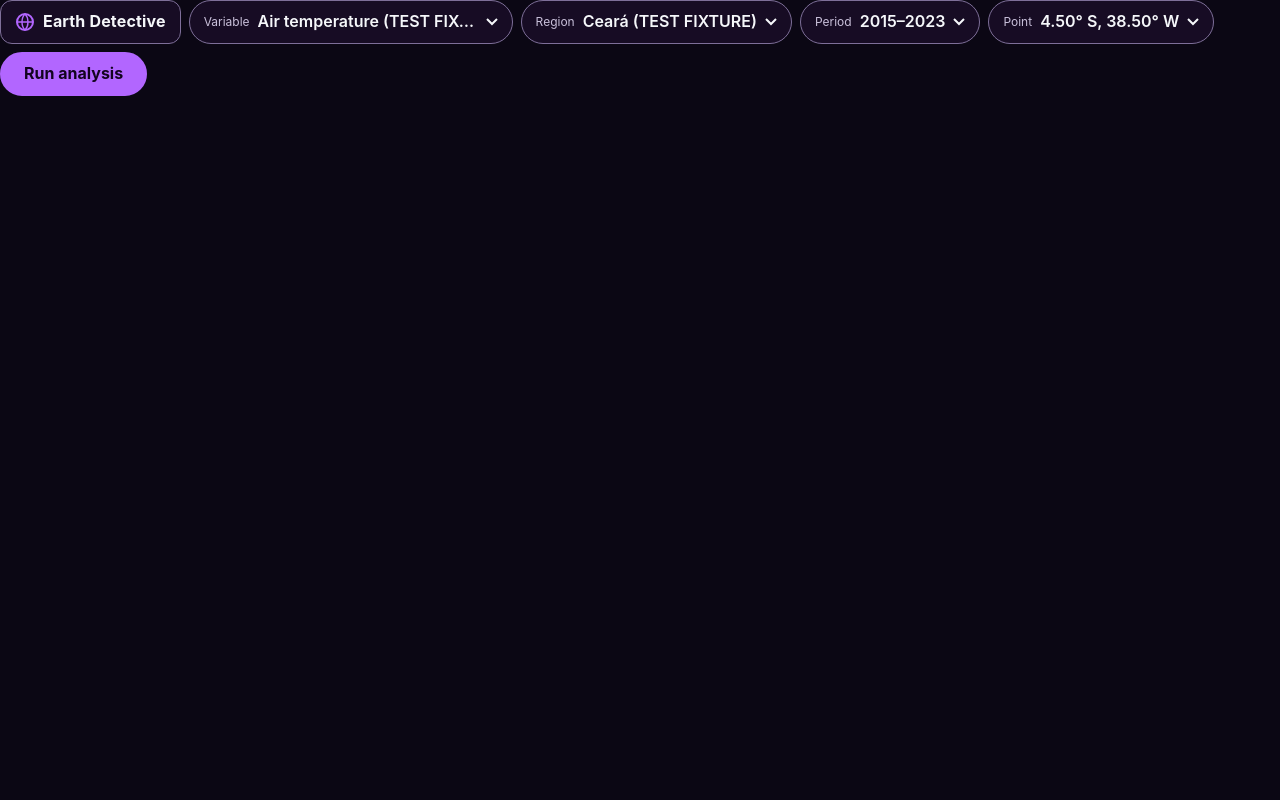
Test: coordinate fields (keyboard) › offers to go back to the region center once a point was chosen
Step 1. Click the button with aria-label "Point:" → (1101, 22), box [988,0,1214,44]
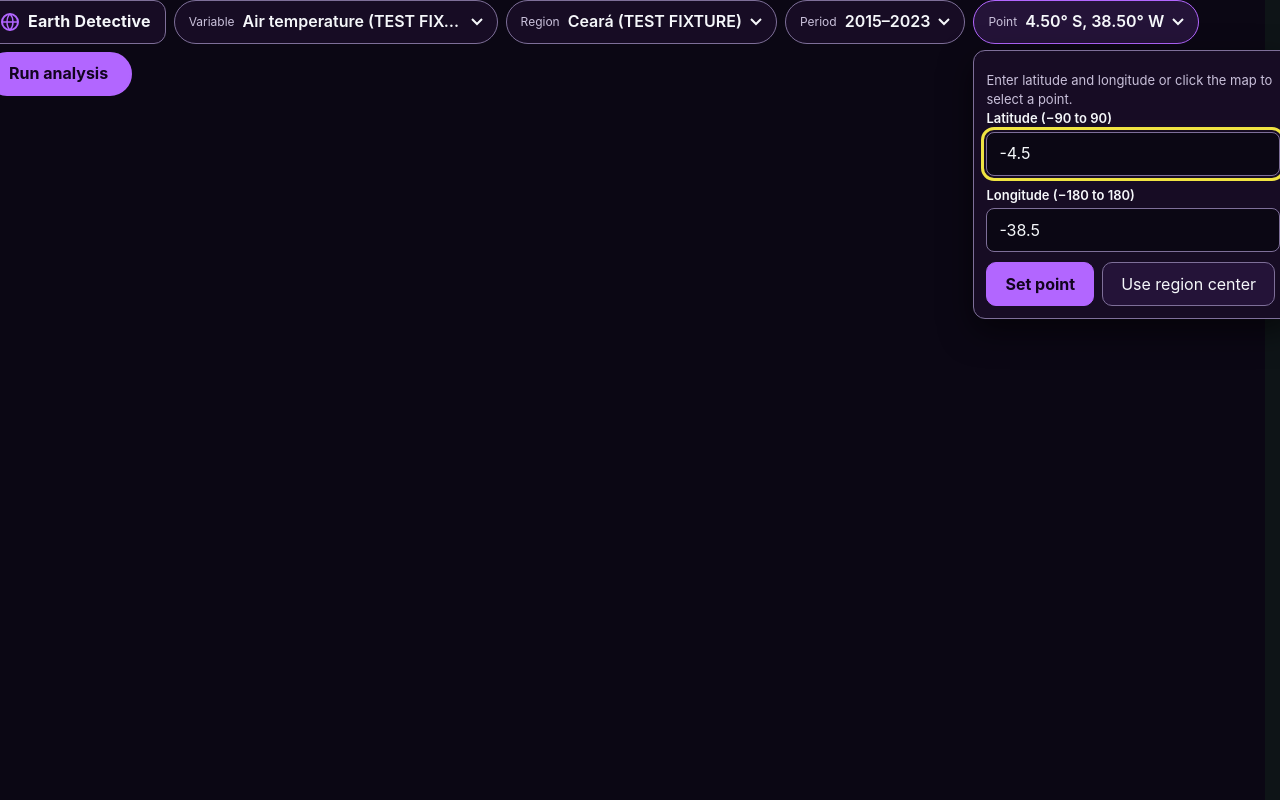
Step 2. Click the button "Use region center" → (1189, 284), box [1102,262,1275,306]
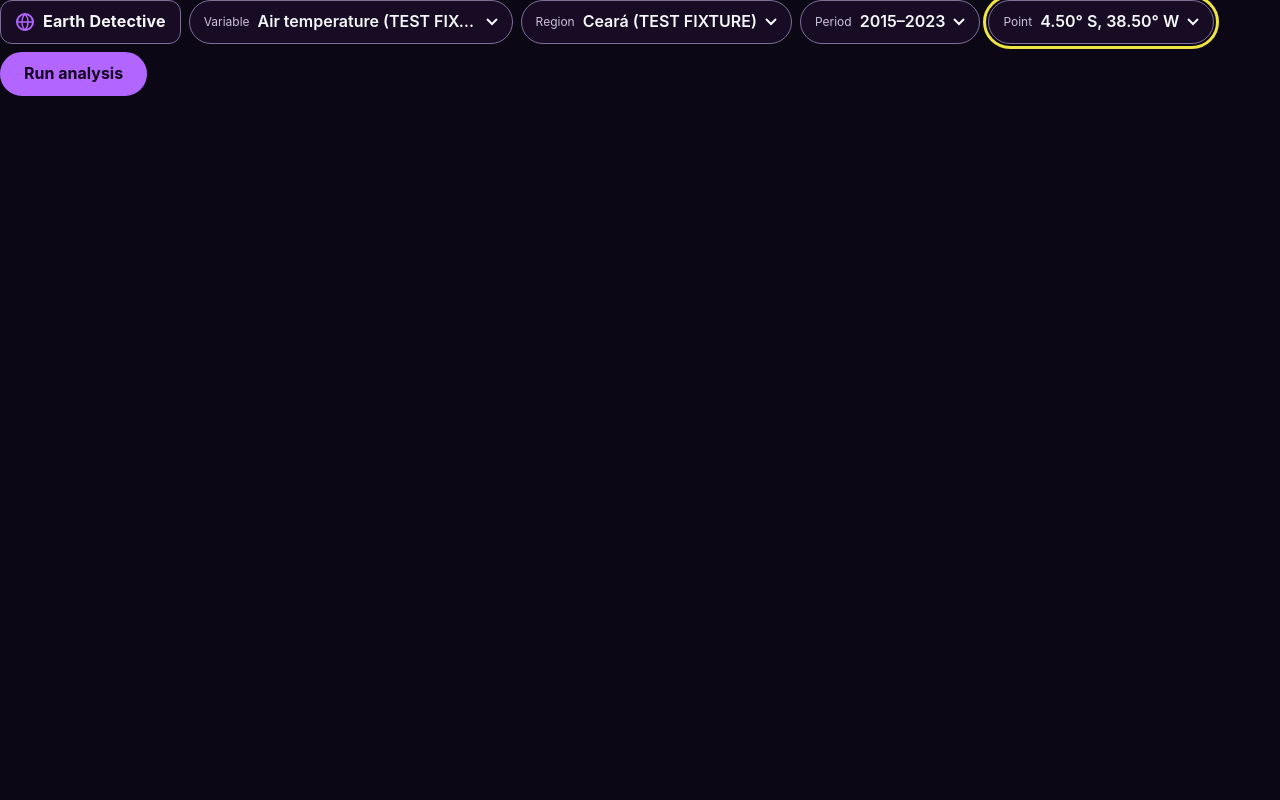
Now the dialog is gone
